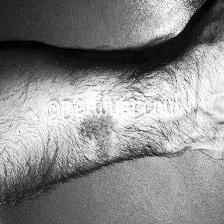Toxin: (78, 98, 118, 160)
